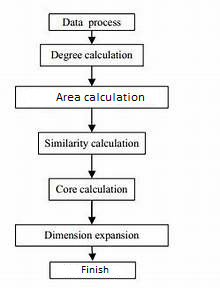arrow: (85, 107, 96, 133), (86, 152, 97, 178), (86, 199, 97, 225), (86, 65, 97, 86), (86, 243, 97, 262), (87, 29, 98, 43)
process: (14, 84, 170, 110), (14, 222, 171, 247), (37, 40, 145, 68), (36, 130, 148, 156), (47, 175, 138, 202), (47, 10, 137, 33), (47, 260, 137, 279)
text: (42, 137, 138, 149), (42, 229, 138, 240), (55, 90, 145, 101), (48, 49, 132, 60), (55, 183, 129, 193), (59, 16, 123, 27), (79, 265, 110, 274)
